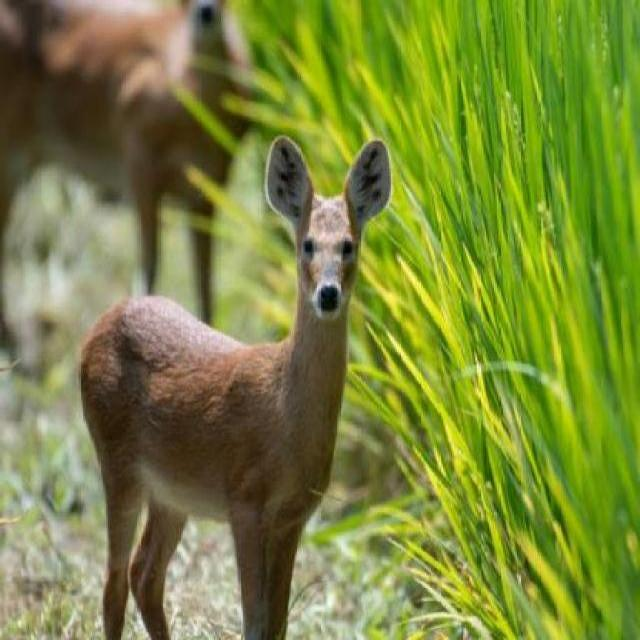deer: (79, 124, 394, 640)
